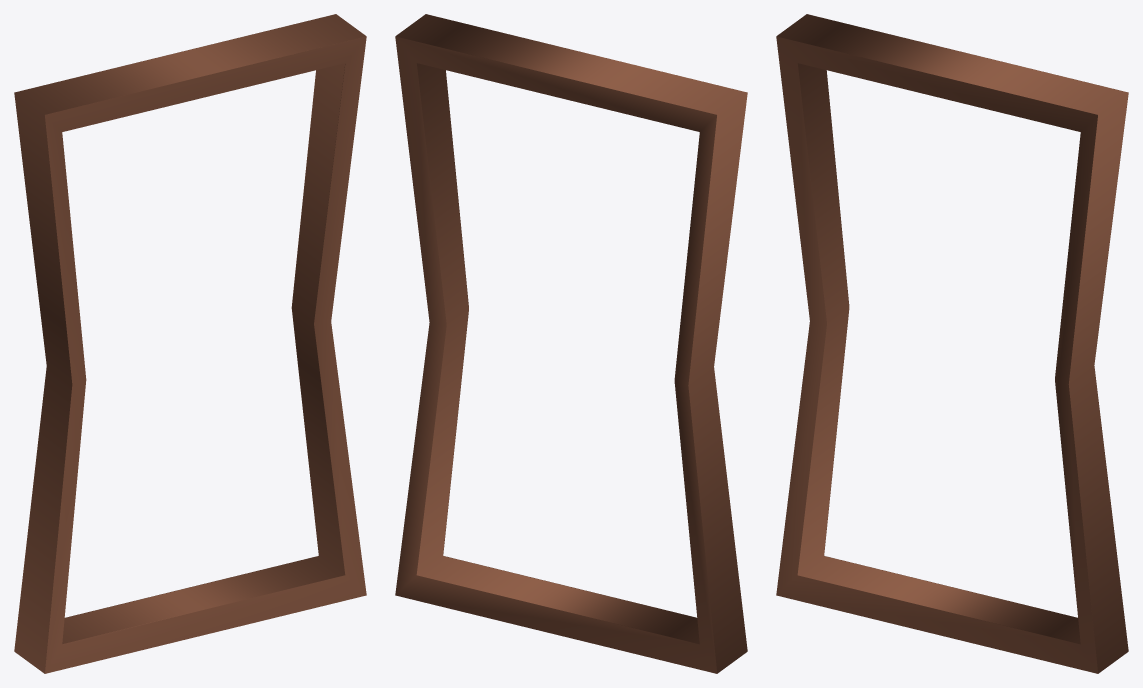
Rendered from DoorFrame_LowPoly.fbx.
3 renders of one model, left to right at view 1: azimuth 30°, elevation 25°; view 2: azimuth 150°, elevation 25°; view 3: azimuth 330°, elevation 25°, orthographic.
Parts seen in each view (by area): view 1: DoorFrame_LowPoly; view 2: DoorFrame_LowPoly; view 3: DoorFrame_LowPoly.
Boxes of the visible parts, x1=… form: DoorFrame_LowPoly: x1=14, y1=14, x2=366, y2=673; DoorFrame_LowPoly: x1=395, y1=14, x2=747, y2=673; DoorFrame_LowPoly: x1=776, y1=14, x2=1128, y2=673.
Bounding box in the file's own units: 278 × 462 × 45.81.
